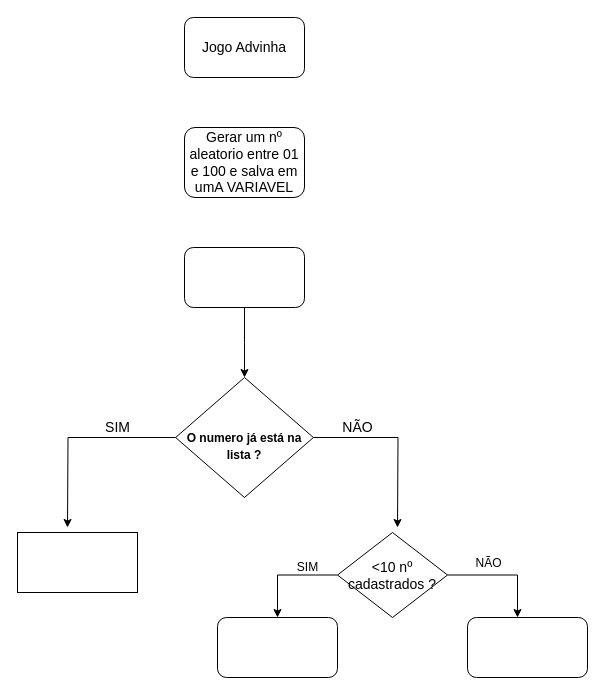
This 605x695 diagram has some shape labels left out. The centre of each missing label's shape, as x and y in pixels:
"Alerta de nº cadastrado" belongs at pixel 77 562.
"Recebe numeros do front" belongs at pixel 244 277.
